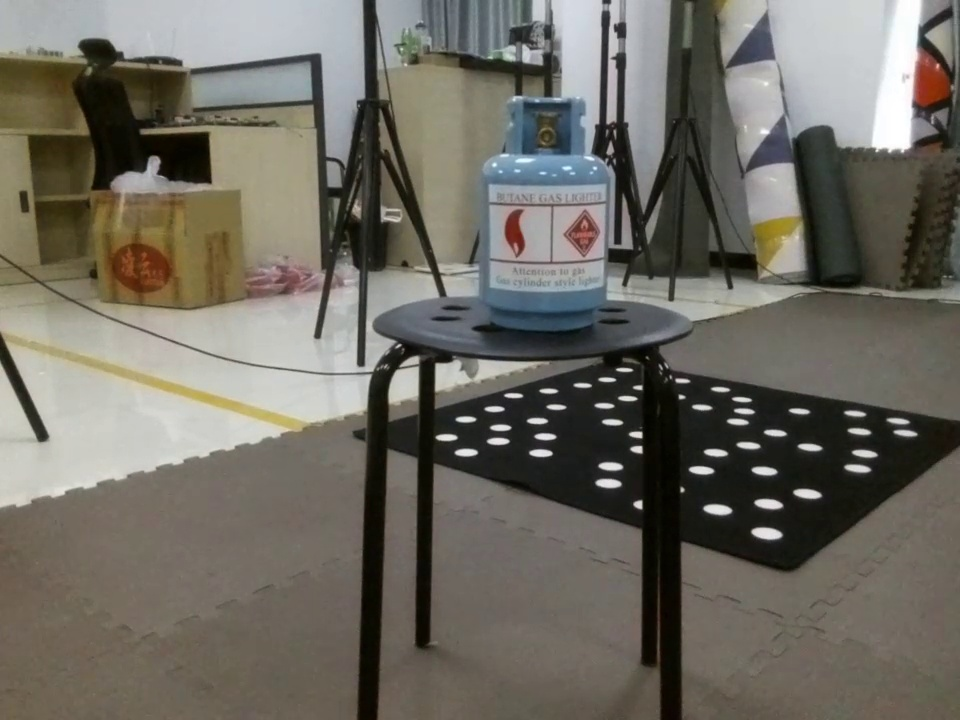gas tank: (460, 91, 632, 335)
